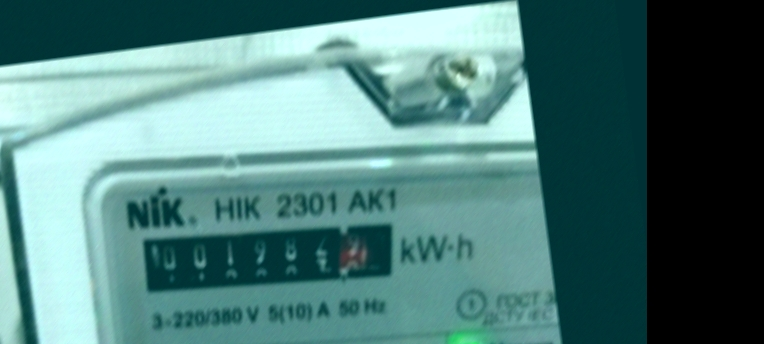0: (189, 238, 210, 269), (159, 239, 179, 269)
1: (221, 234, 237, 264)
2: (311, 225, 332, 256)
8: (281, 230, 301, 260)
9: (342, 226, 366, 257), (250, 233, 269, 264)
screen: (123, 189, 414, 320)
